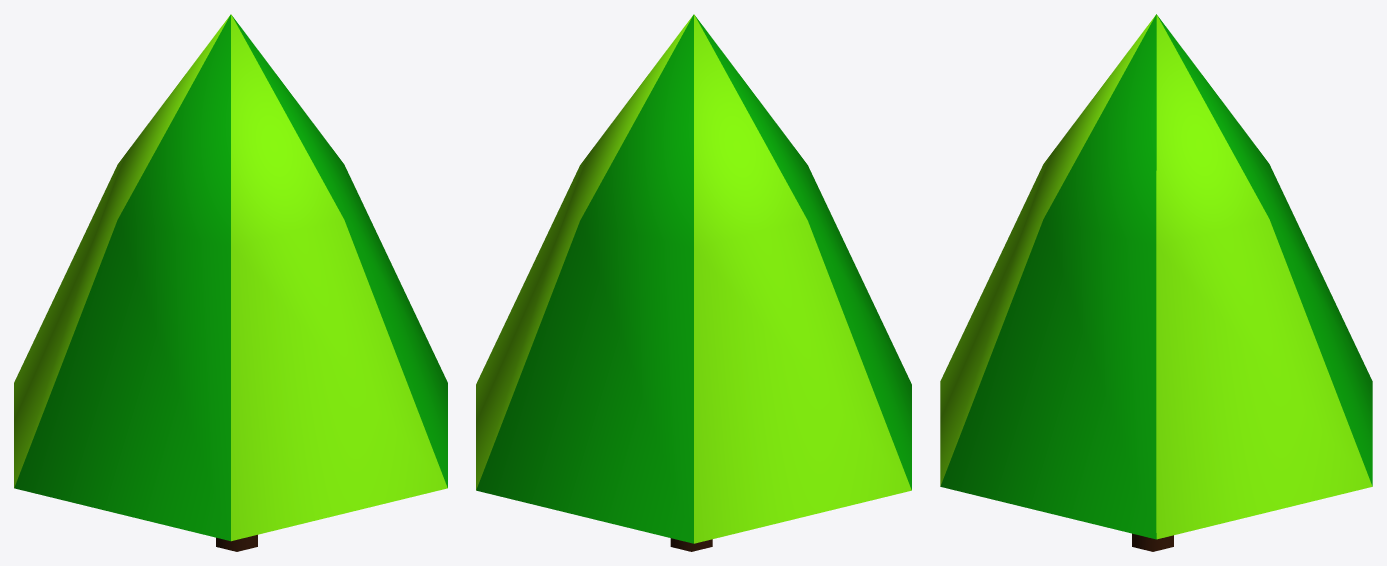
The model's file is Castle_Block_Tree_A.FBX.
3 views of the same model, side by side, from view 1: azimuth 30°, elevation 25°; view 2: azimuth 150°, elevation 25°; view 3: azimuth 270°, elevation 25° (orthographic).
Visible parts, largest first — view 1: Tree; view 2: Tree; view 3: Tree.
Boxes of the visible parts, x1,y1,x2,y2 form: Tree: [14, 14, 447, 551]; Tree: [476, 14, 911, 551]; Tree: [940, 14, 1372, 551].
Size of the model in its own units: 21.86 by 25.4 by 18.93.
